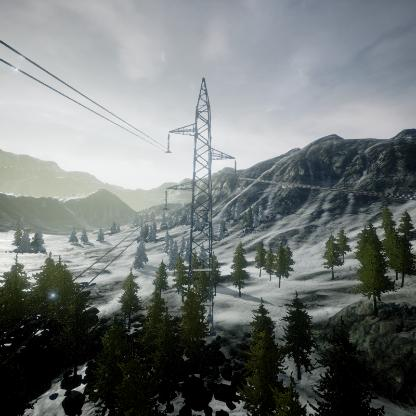tower: (162, 74, 241, 339)
